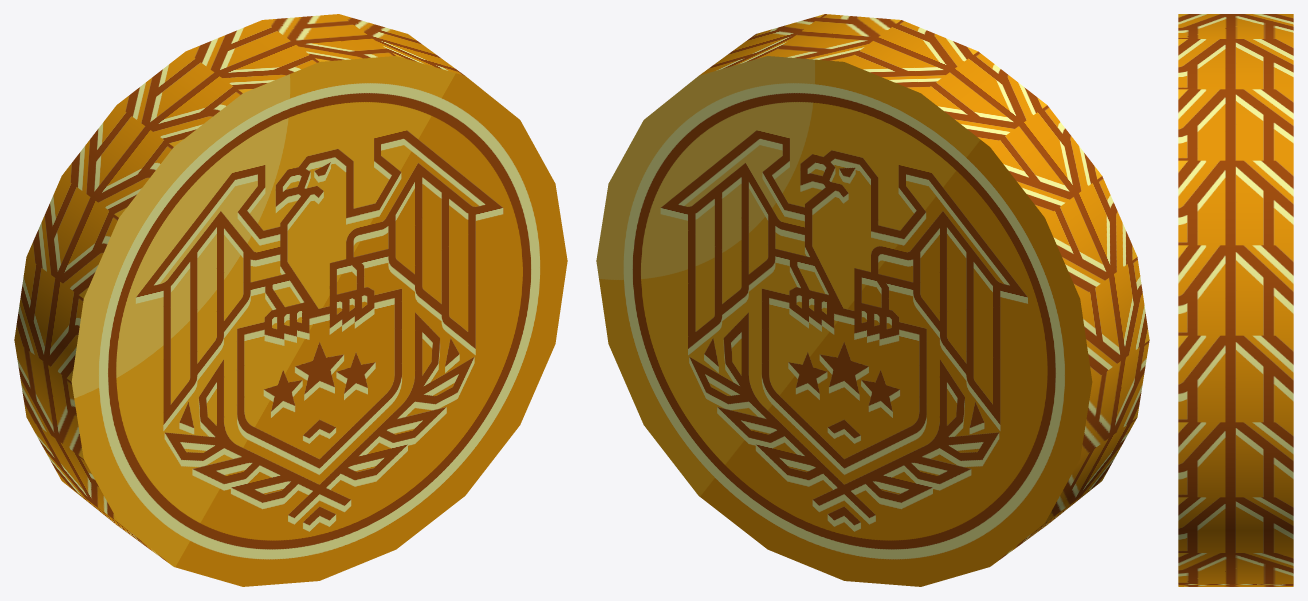
File: coin.glb
3 renders of one model, left to right at view 1: azimuth 30°, elevation 25°; view 2: azimuth 150°, elevation 25°; view 3: azimuth 270°, elevation 25°, orthographic.
Visible parts, largest first — view 1: Coin.001; view 2: Coin.001; view 3: Coin.001.
Boxes of the visible parts, box(x1,y1,x2,y2) form: Coin.001: box(14, 14, 567, 586); Coin.001: box(596, 14, 1149, 586); Coin.001: box(1178, 14, 1293, 586).
Bounding box in the file's own units: 100 × 100 × 20.
2 materials, 1 textured.
